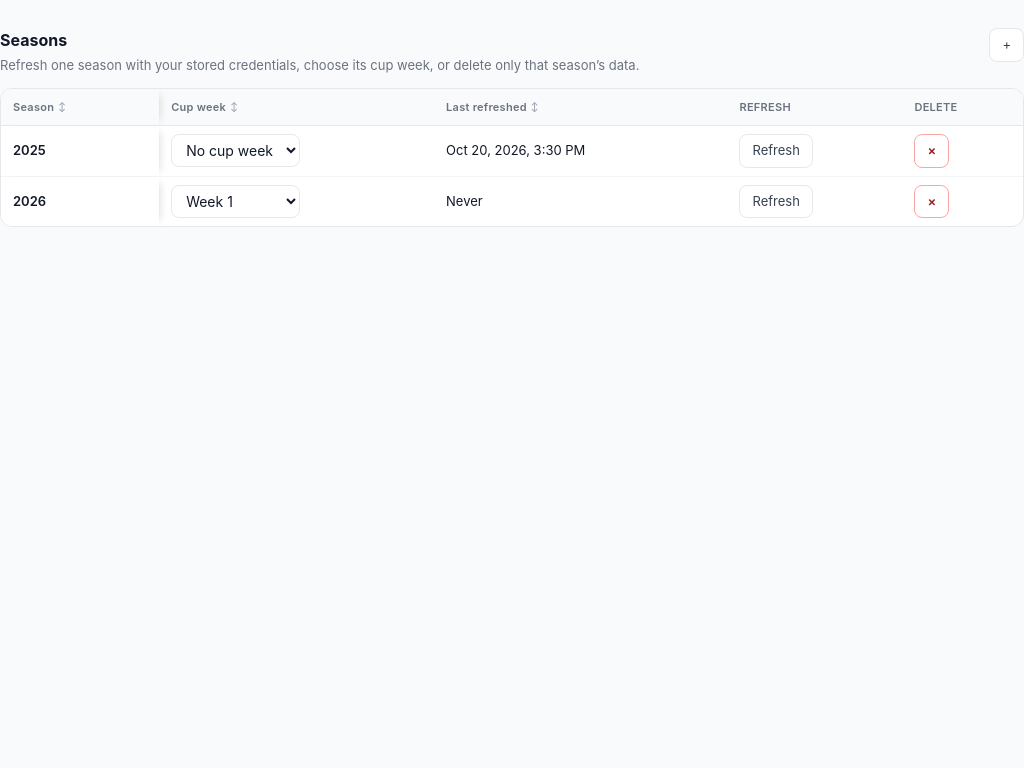
it: SeasonsSection › deletes only the confirmed season and reports success
The width and height of the screenshot is (1024, 768).
Expected: the column heading "2025" is shown, 1,126 -> 159,176
Click the button named "Delete season 2025": (932, 151) 914,134 -> 949,168
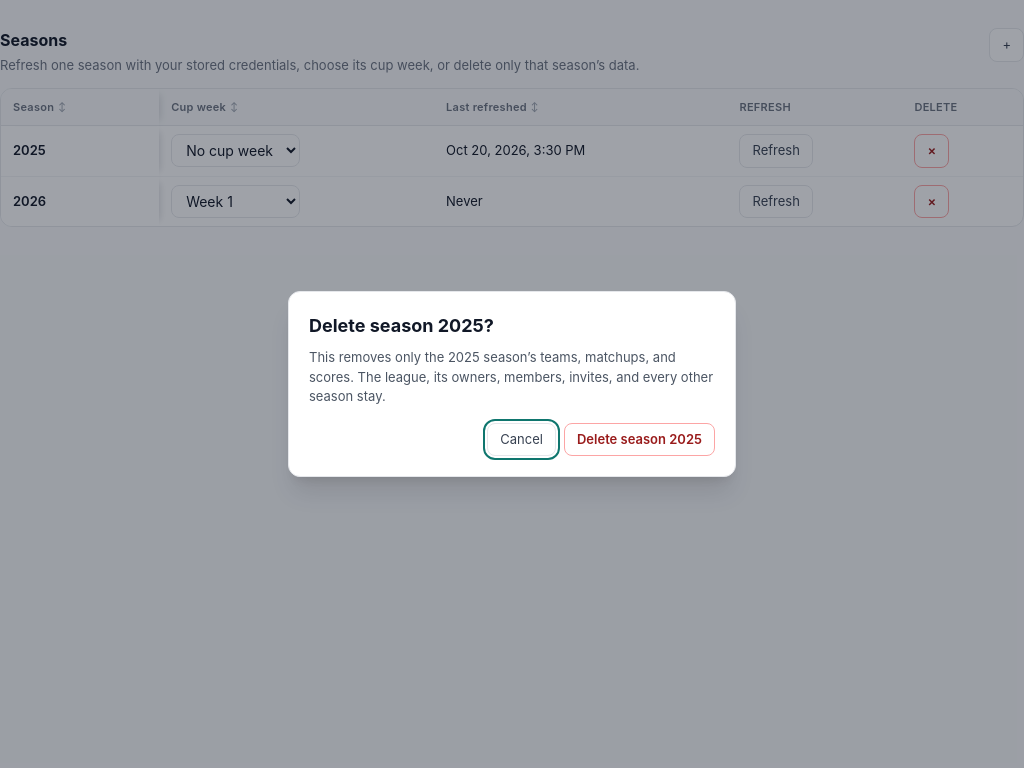
Result: the text "only the 2025 season" is shown at 309,348 -> 715,406
Click the button "Cancel": (522, 439) 487,422 -> 556,456
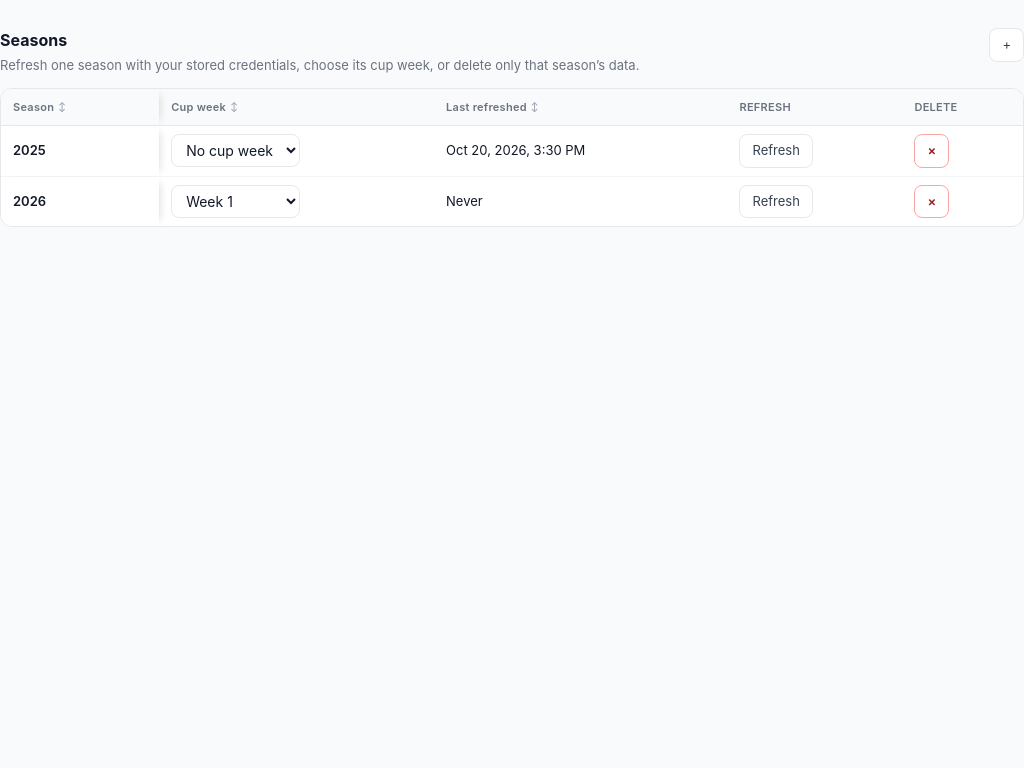
Result: the dialog is gone
Click the button named "Delete season 2025": (932, 151) 914,134 -> 949,168
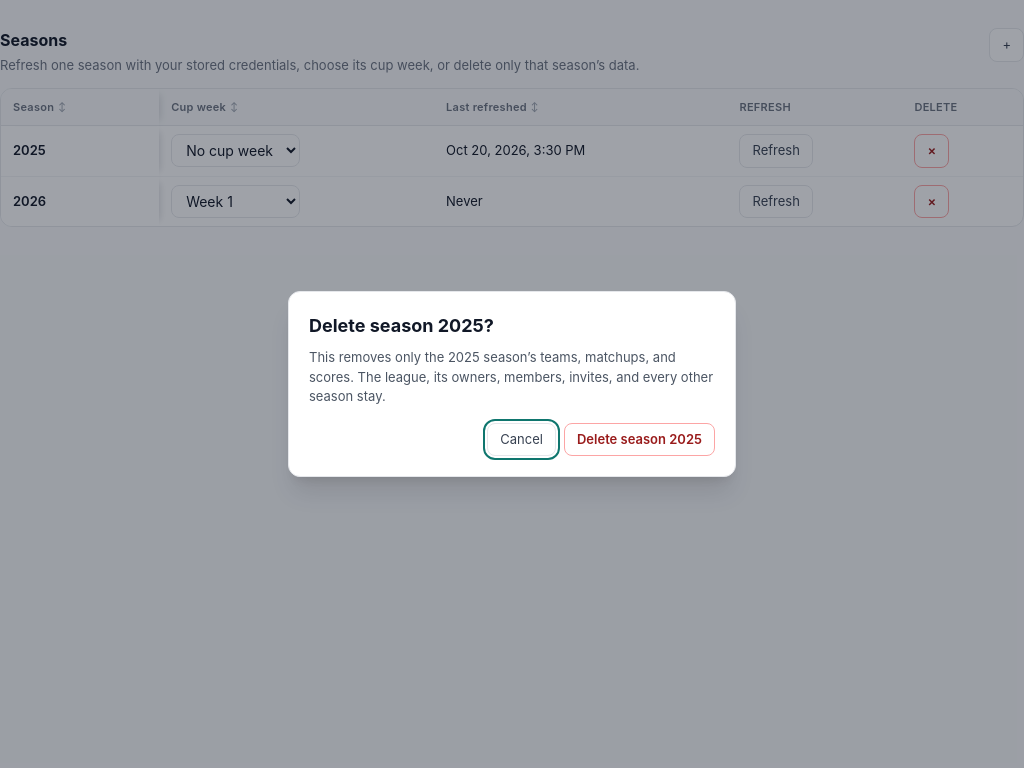
Click the button "Delete season 2025": (640, 439) 564,422 -> 715,456
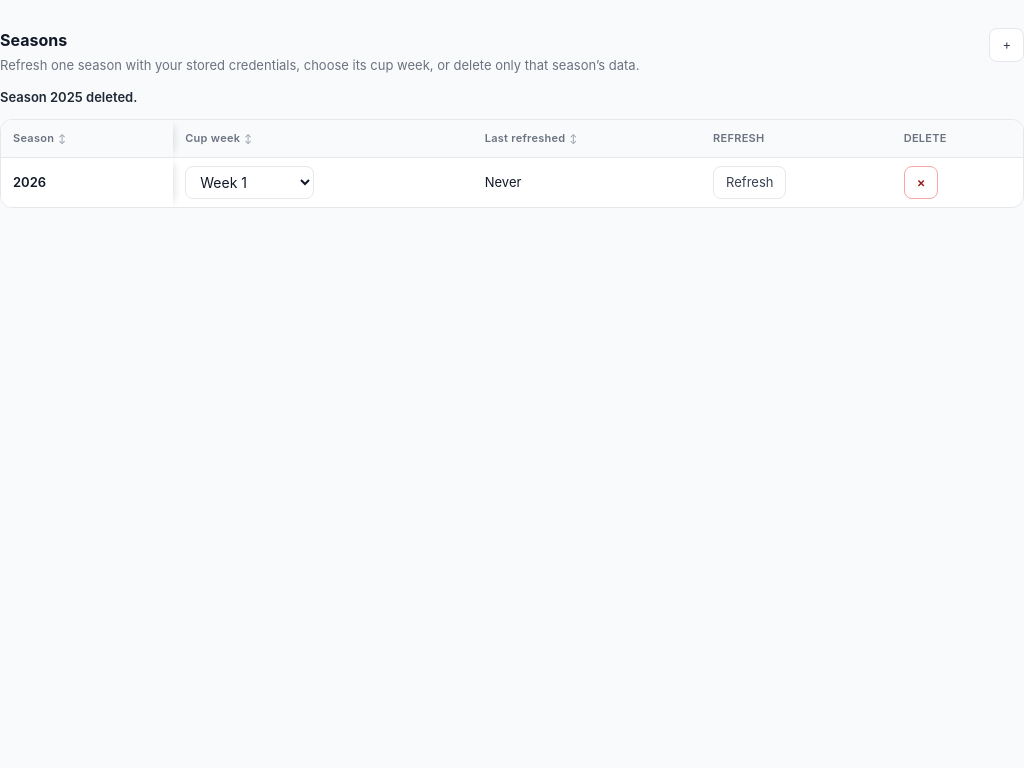
Expected: the column heading "2026" is shown, 1,158 -> 173,207
Result: the text "Season 2025 deleted." is shown at 0,88 -> 137,104
